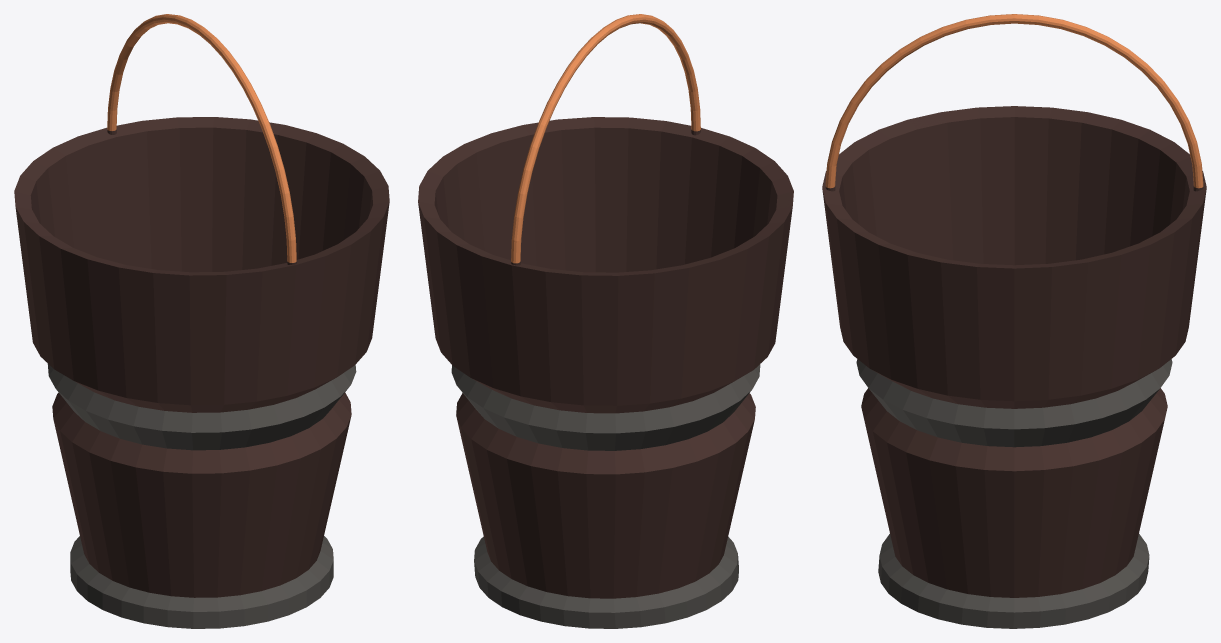
File: Kova.fbx
3 renders of one model, left to right at view 1: azimuth 30°, elevation 25°; view 2: azimuth 150°, elevation 25°; view 3: azimuth 270°, elevation 25°, orthographic. The views are drawn at different scales.
Visible parts, largest first — view 1: Torus.003; view 2: Torus.003; view 3: Torus.003.
Boxes of the visible parts, left/top/right/bottom form: Torus.003: left=14, top=14, right=389, bottom=628; Torus.003: left=418, top=14, right=793, bottom=628; Torus.003: left=822, top=14, right=1206, bottom=628.
Bounding box in the file's own units: 52.34 × 83.75 × 52.34.
